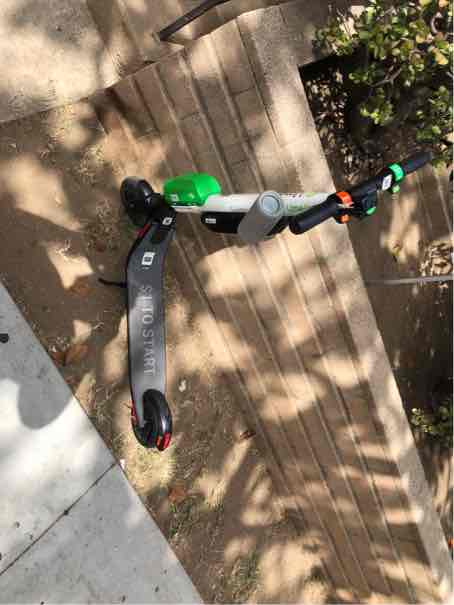scooter: (93, 94, 392, 471)
